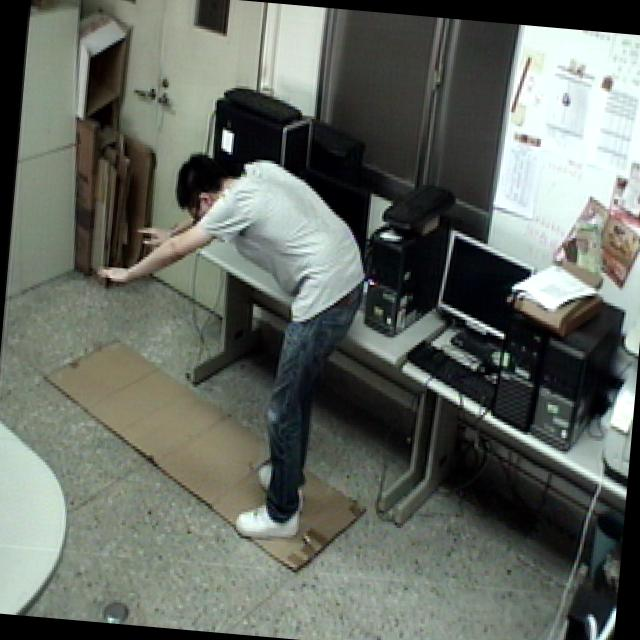bend: (64, 138, 376, 549)
